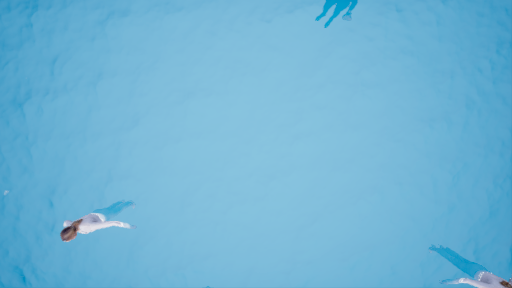person: (49, 197, 150, 244)
